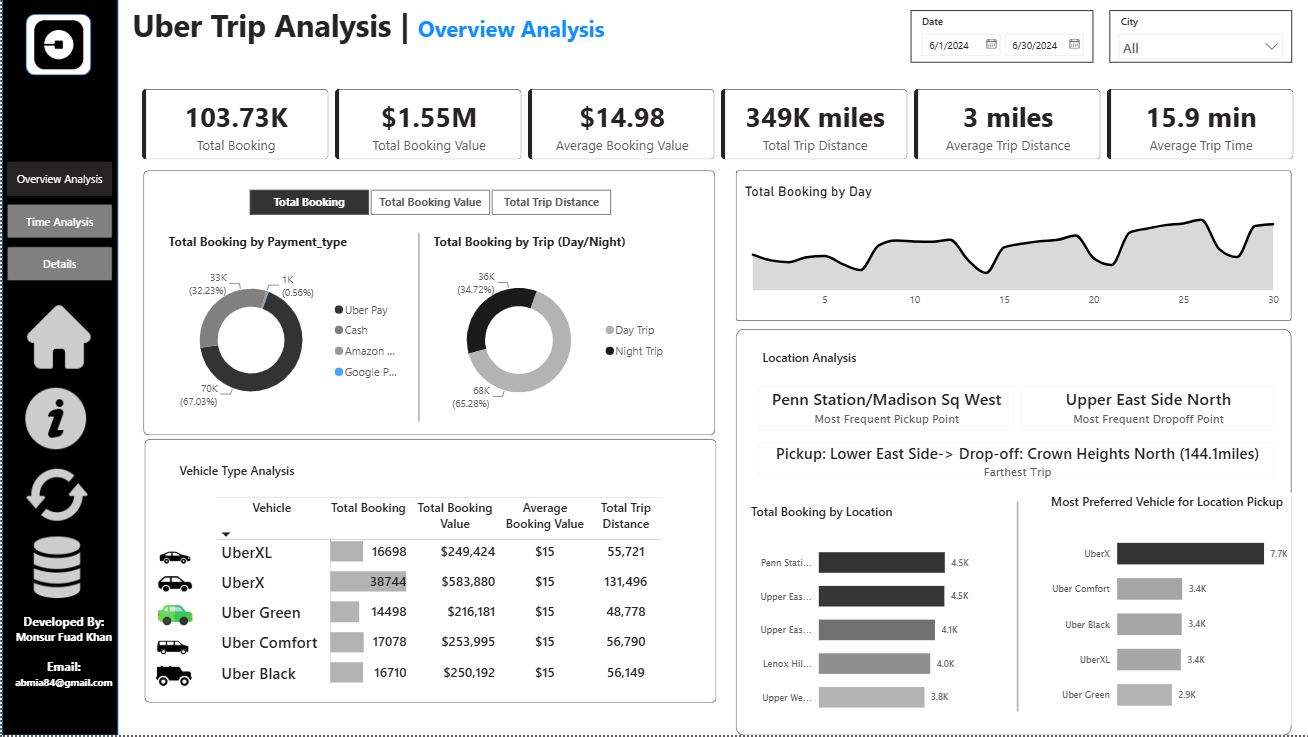

The dashboard page shown, as its layout file describes it:
{"tool":"powerbi","page":{"name":"Overview Analysis","canvas":[1600,900],"ordinal":0},"visuals":[{"type":"shape","box":[0,0,142,900.5],"z":0},{"type":"textbox","box":[154.4,1.7,689.5,77.2],"z":1000},{"type":"cardVisual","fields":{"Data":["Trip Details.total_booking","Trip Details.total_booking_value","Trip Details.average_booking_value","Trip Details.total_trip_distance","Trip Details.average_trip_distance","Trip Details.average_trip_time"]},"box":[154.4,92.6,1446,120.1],"z":2000},{"type":"shape","box":[172.3,209.9,699.5,324.2],"z":3000},{"type":"slicer","fields":{"Values":["Dynamic Measure.Dynamic Measure"]},"box":[276.2,226.4,492.3,44.6],"z":4000},{"type":"donutChart","fields":{"Y":["Trip Details.Total Booking"],"Category":["Trip Details.Payment_type"]},"box":[199,286.5,300.2,231.6],"z":5000},{"type":"donutChart","fields":{"Y":["Trip Details.Total Booking"],"Category":["Trip Details.Trip Type (Day/Night)"]},"box":[523.2,286.5,300.2,231.6],"z":6000},{"type":"shape","box":[174,537.4,699.5,322.5],"z":7000},{"type":"pivotTable","fields":{"Rows":["Trip Details.Vehicle"],"Values":["Trip Details.Total Booking","Trip Details.Total Booking Value","Trip Details.Average Booking Time","Trip Details.Total Trip Distance Measure"]},"box":[257.6,604,610.8,249.1],"z":8000},{"type":"image","box":[151.8,662,121.1,42.7],"z":9000},{"type":"image","box":[151.8,694.4,121.1,42.7],"z":10000},{"type":"image","box":[151.8,731.9,121.1,42.7],"z":11000},{"type":"image","box":[148.4,771.2,121.1,42.7],"z":12000},{"type":"image","box":[150.1,805.3,121.1,44.4],"z":13000},{"type":"cardVisual","fields":{"Data":["Trip Details.Title for Grid"]},"box":[178.8,545.7,217.1,58.1],"z":14000},{"type":"shape","box":[896.7,210.1,679.8,184.5],"z":15000},{"type":"areaChart","fields":{"Category":["calender_table.Date.Variation.Date Hierarchy.Day"],"Y":["Trip Details.Total Booking"]},"box":[903.5,225.4,666.1,160.5],"z":16000},{"type":"shape","box":[896.7,403.1,679.8,497],"z":17000},{"type":"cardVisual","fields":{"Data":["Trip Details.Most Frequent Pickup Point","Trip Details.Most Frequent Dropoff Point"]},"box":[908,455.5,666.4,85.6],"z":18000},{"type":"cardVisual","fields":{"Data":["Trip Details.Farthest Trip"]},"box":[908,525.8,666.1,78.6],"z":19000},{"type":"barChart","fields":{"Category":["Location Table.Location"],"Y":["Trip Details.Total Booking"]},"box":[911,616,299.6,273.6],"z":20000},{"type":"barChart","title":"Most Preferred Vehicle for Location Pickup","fields":{"Category":["Trip Details.Vehicle"],"Y":["CountNonNull(Trip Details.PULocationID)"]},"box":[1277.9,603.8,299.6,284.3],"z":21000},{"type":"shape","box":[428,285.8,163.6,230.8],"z":22000},{"type":"shape","box":[1160.2,614.5,163.6,256.8],"z":23000},{"type":"cardVisual","fields":{"Data":["Trip Details.Title for Location"]},"box":[900.3,406.6,224.7,59.6],"z":24000},{"type":"slicer","fields":{"Values":["calender_table.Date"]},"box":[1111.2,13.8,223.2,64.2],"z":25000},{"type":"slicer","fields":{"Values":["Location Table.City"]},"box":[1354.3,13.8,223.2,64.2],"z":26000},{"type":"pageNavigator","box":[6.1,198.7,129.9,148.3],"z":27000},{"type":"shape","box":[29,18.3,80,75],"z":28000},{"type":"image","box":[29,26,81,59.6],"z":29000},{"type":"image","box":[24.5,374.5,90.2,78],"z":30000},{"type":"image","box":[22.9,475.4,85.6,74.9],"z":31000},{"type":"image","box":[24.5,568.6,85.6,74.9],"z":32000},{"type":"image","box":[24.5,657.3,85.6,74.9],"z":33000},{"type":"textbox","box":[0,745.9,151.3,114.6],"z":34000}]}

Visuals, with their boxes in screenshot pixels (x1, y1, x2, y2), scaled from the page's 1600x900 canvas onto the 1308x737 screenshot:
shape: (x1=0, y1=0, x2=116, y2=736)
textbox: (x1=126, y1=1, x2=690, y2=65)
cardVisual - Trip Details.total_booking x Trip Details.total_booking_value: (x1=126, y1=76, x2=1307, y2=174)
shape: (x1=141, y1=172, x2=713, y2=437)
slicer - Dynamic Measure.Dynamic Measure: (x1=226, y1=185, x2=628, y2=222)
donutChart - Trip Details.Total Booking x Trip Details.Payment_type: (x1=163, y1=235, x2=408, y2=424)
donutChart - Trip Details.Total Booking x Trip Details.Trip Type (Day/Night): (x1=428, y1=235, x2=673, y2=424)
shape: (x1=142, y1=440, x2=714, y2=704)
pivotTable - Trip Details.Vehicle x Trip Details.Total Booking: (x1=211, y1=495, x2=710, y2=699)
image: (x1=124, y1=542, x2=223, y2=577)
image: (x1=124, y1=569, x2=223, y2=604)
image: (x1=124, y1=599, x2=223, y2=634)
image: (x1=121, y1=632, x2=220, y2=666)
image: (x1=123, y1=659, x2=222, y2=696)
cardVisual - Trip Details.Title for Grid: (x1=146, y1=447, x2=324, y2=494)
shape: (x1=733, y1=172, x2=1289, y2=323)
areaChart - calender_table.Date.Variation.Date Hierarchy.Day x Trip Details.Total Booking: (x1=739, y1=185, x2=1283, y2=316)
shape: (x1=733, y1=330, x2=1289, y2=736)
cardVisual - Trip Details.Most Frequent Pickup Point x Trip Details.Most Frequent Dropoff Point: (x1=742, y1=373, x2=1287, y2=443)
cardVisual - Trip Details.Farthest Trip: (x1=742, y1=431, x2=1287, y2=495)
barChart - Location Table.Location x Trip Details.Total Booking: (x1=745, y1=504, x2=990, y2=728)
"Most Preferred Vehicle for Location Pickup" barChart: (x1=1045, y1=494, x2=1290, y2=727)
shape: (x1=350, y1=234, x2=484, y2=423)
shape: (x1=948, y1=503, x2=1082, y2=713)
cardVisual - Trip Details.Title for Location: (x1=736, y1=333, x2=920, y2=382)
slicer - calender_table.Date: (x1=908, y1=11, x2=1091, y2=64)
slicer - Location Table.City: (x1=1107, y1=11, x2=1290, y2=64)
pageNavigator: (x1=5, y1=163, x2=111, y2=284)
shape: (x1=24, y1=15, x2=89, y2=76)
image: (x1=24, y1=21, x2=90, y2=70)
image: (x1=20, y1=307, x2=94, y2=371)
image: (x1=19, y1=389, x2=89, y2=451)
image: (x1=20, y1=466, x2=90, y2=527)
image: (x1=20, y1=538, x2=90, y2=600)
textbox: (x1=0, y1=611, x2=124, y2=705)
